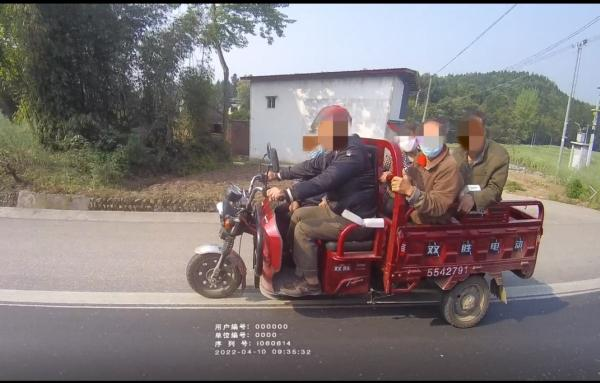overloading: (184, 118, 549, 331)
passenger: (280, 107, 376, 302), (448, 109, 504, 225), (413, 120, 451, 228), (388, 122, 416, 200)
